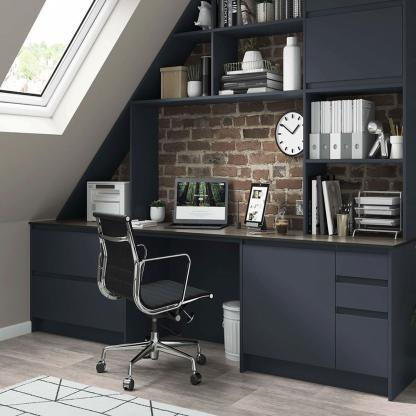chair: (89, 207, 215, 402)
clock: (274, 110, 304, 162)
table: (29, 219, 416, 403)
